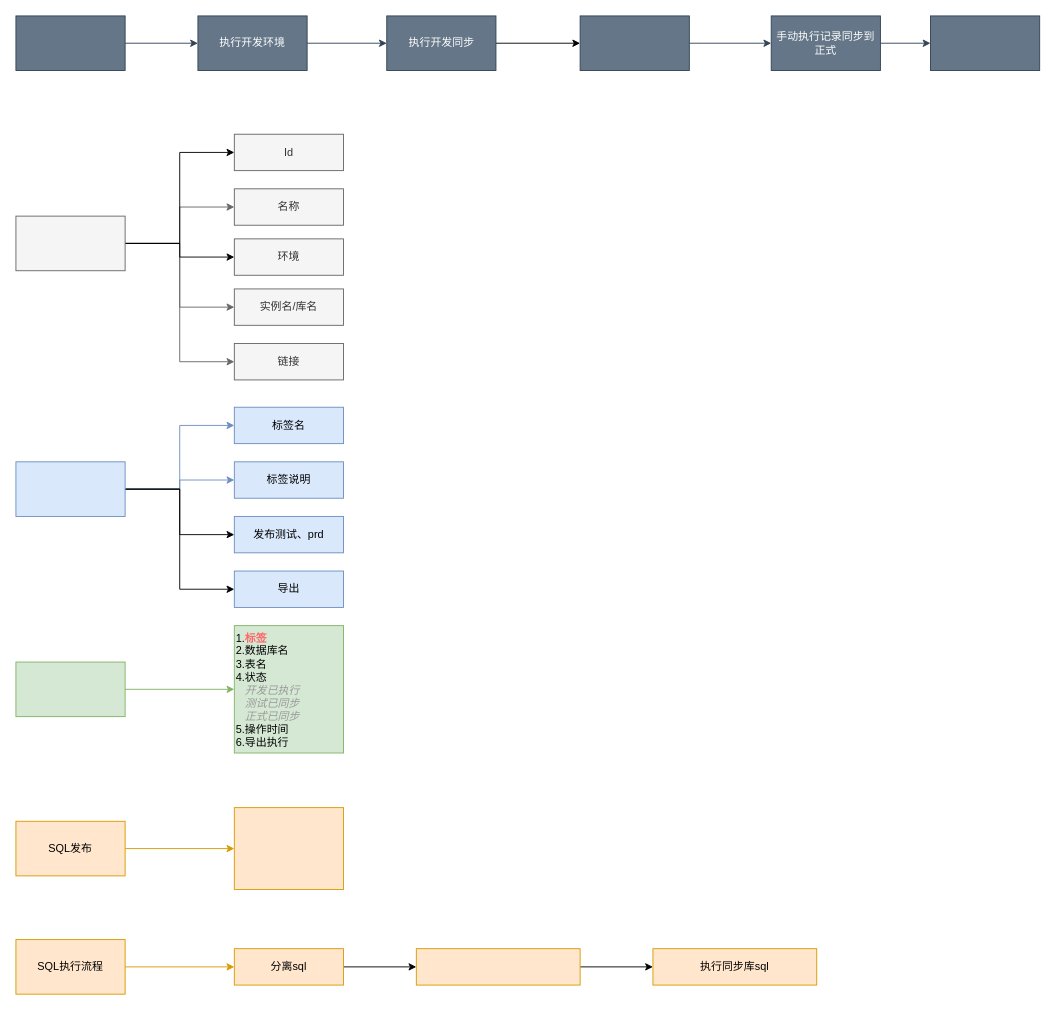
Some shapes in this 1056 by 1010 pixel diagram are drawn without their labels. The centre of each missing label's shape, as x and y in pixels:
SQL发布查询: point 70,689
SQL发布流程: point 70,43
完成: point 985,43
手动执行测试环境 (根据tag批量): point 634,43
执行每条sql并生成记录: point 497,966
数据源管理: point 70,243
标签 数据源 同步数据源 是否发布 sql内容: point 288,848
标签管理: point 70,488
